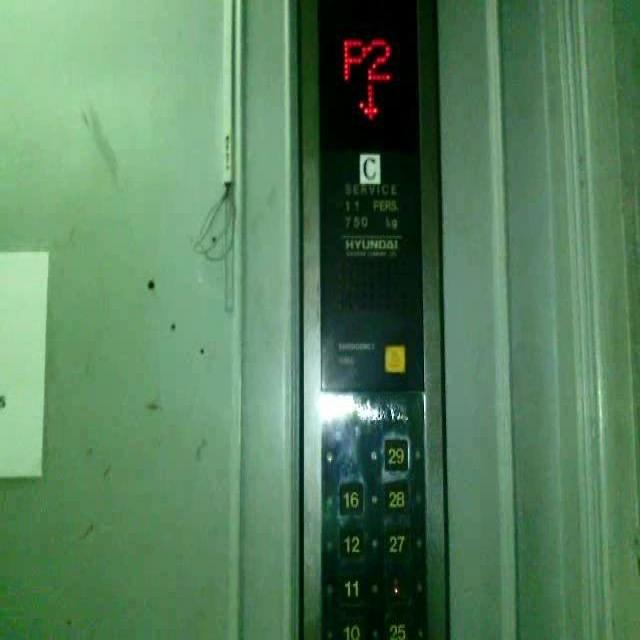11: (338, 574, 365, 606)
12: (338, 527, 364, 560)
16: (338, 483, 363, 516)
27: (384, 527, 410, 560)
28: (384, 480, 407, 513)
29: (383, 438, 408, 471)
alarm: (384, 344, 405, 371)
led: (335, 21, 398, 155)
